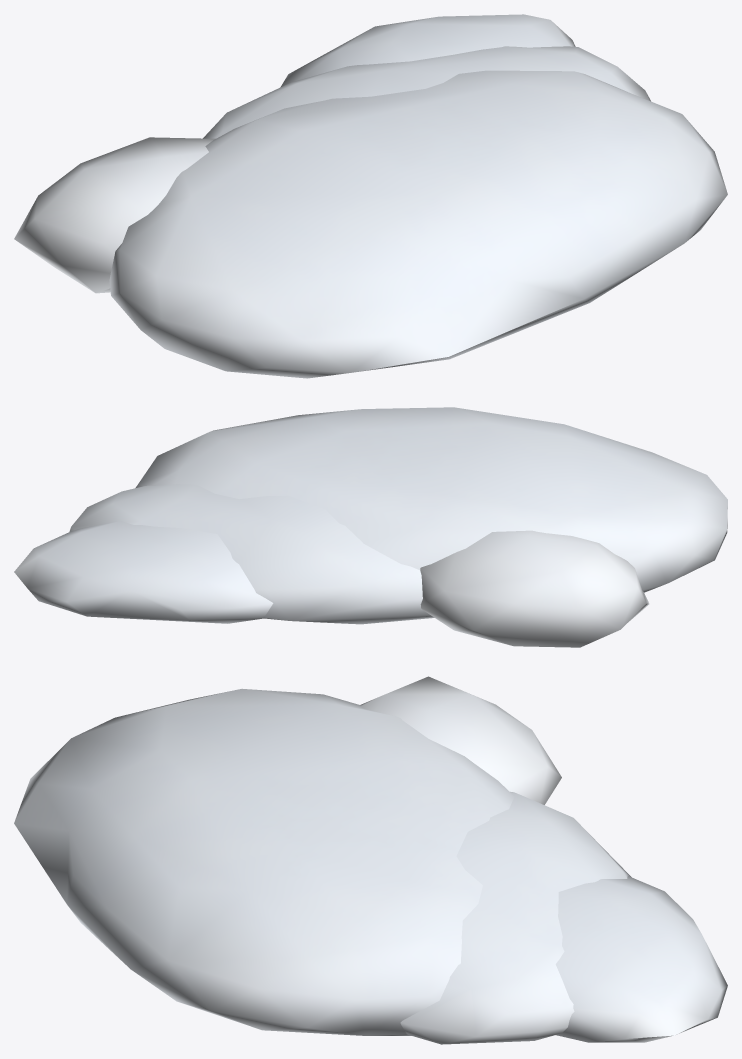
The model's file is snowdrift_lod1.gltf.
3 renders of one model, top to bottom at view 1: azimuth 30°, elevation 25°; view 2: azimuth 150°, elevation 25°; view 3: azimuth 270°, elevation 25°, orthographic. The views are drawn at different scales.
Visible parts, largest first — view 1: snowdrift_LOD1; view 2: snowdrift_LOD1; view 3: snowdrift_LOD1.
Boxes of the visible parts, x1,y1,x2,y2 form: snowdrift_LOD1: [14, 14, 727, 378]; snowdrift_LOD1: [14, 407, 727, 647]; snowdrift_LOD1: [14, 676, 727, 1044].
Bounding box in the file's own units: 1.91 × 0.2697 × 1.82.
1 material, 1 textured.
